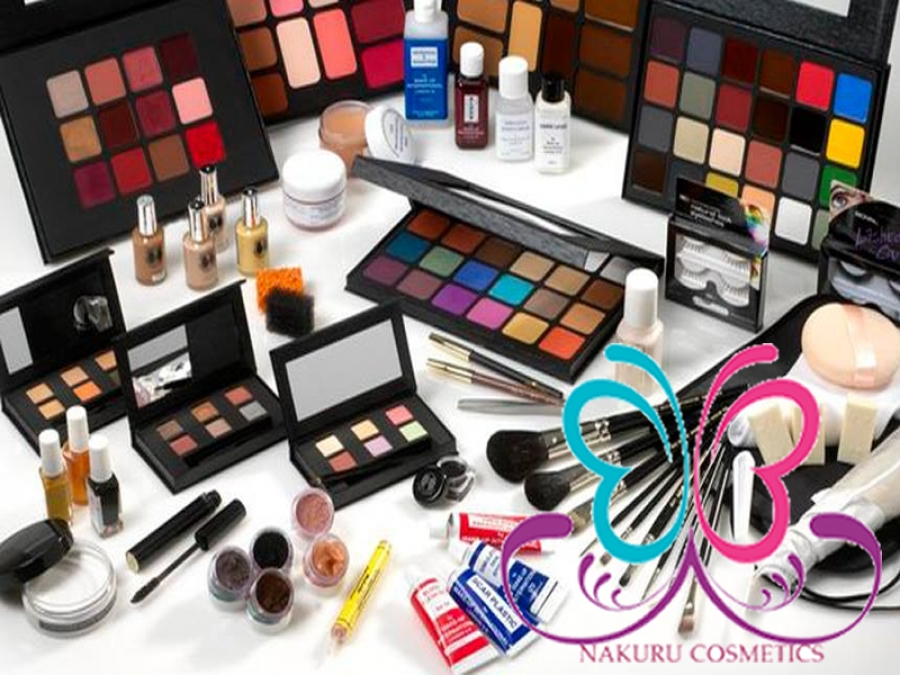Nonrec_Other: (5, 12, 888, 649)
